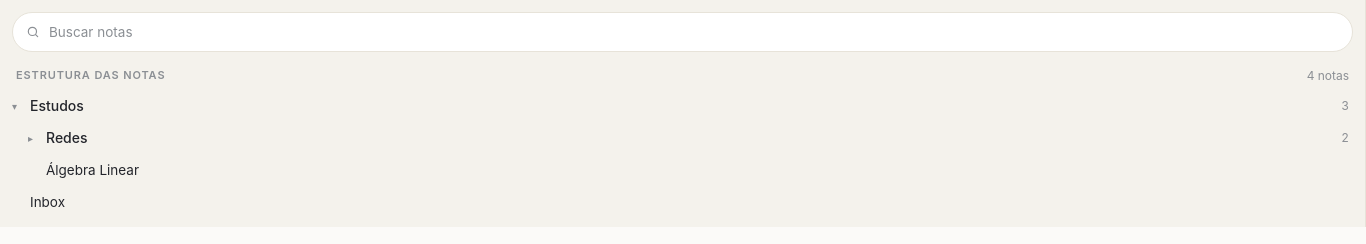
Test case: BarraLateral › busca › mostra quantas notas casaram do total
Type "redes" into the search field named "Buscar nas notas". click: (682,32)
box: left=12, top=12, right=1353, bottom=52
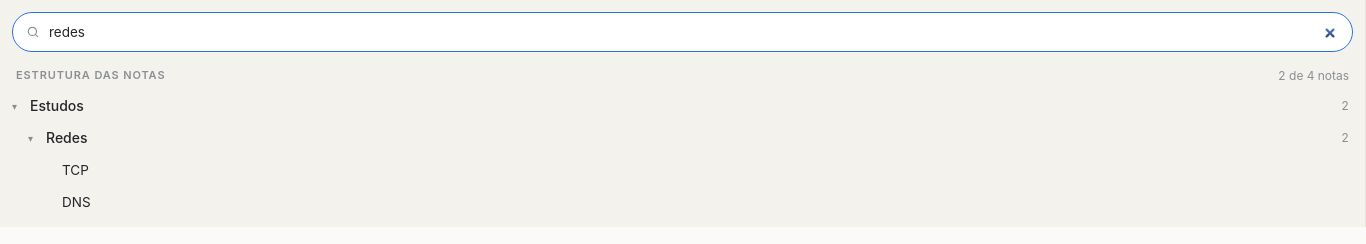
expect the text "2 de 4 notas" is shown: met, box left=1278, top=68, right=1349, bottom=84
